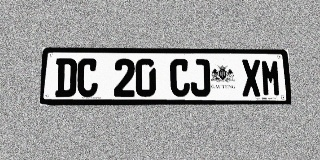0: (135, 59, 155, 97)
2: (114, 59, 135, 97)
C: (77, 58, 98, 97), (170, 59, 190, 97)
D: (55, 58, 77, 97)
J: (190, 59, 210, 97)
M: (261, 59, 281, 96)
X: (241, 59, 262, 96)
